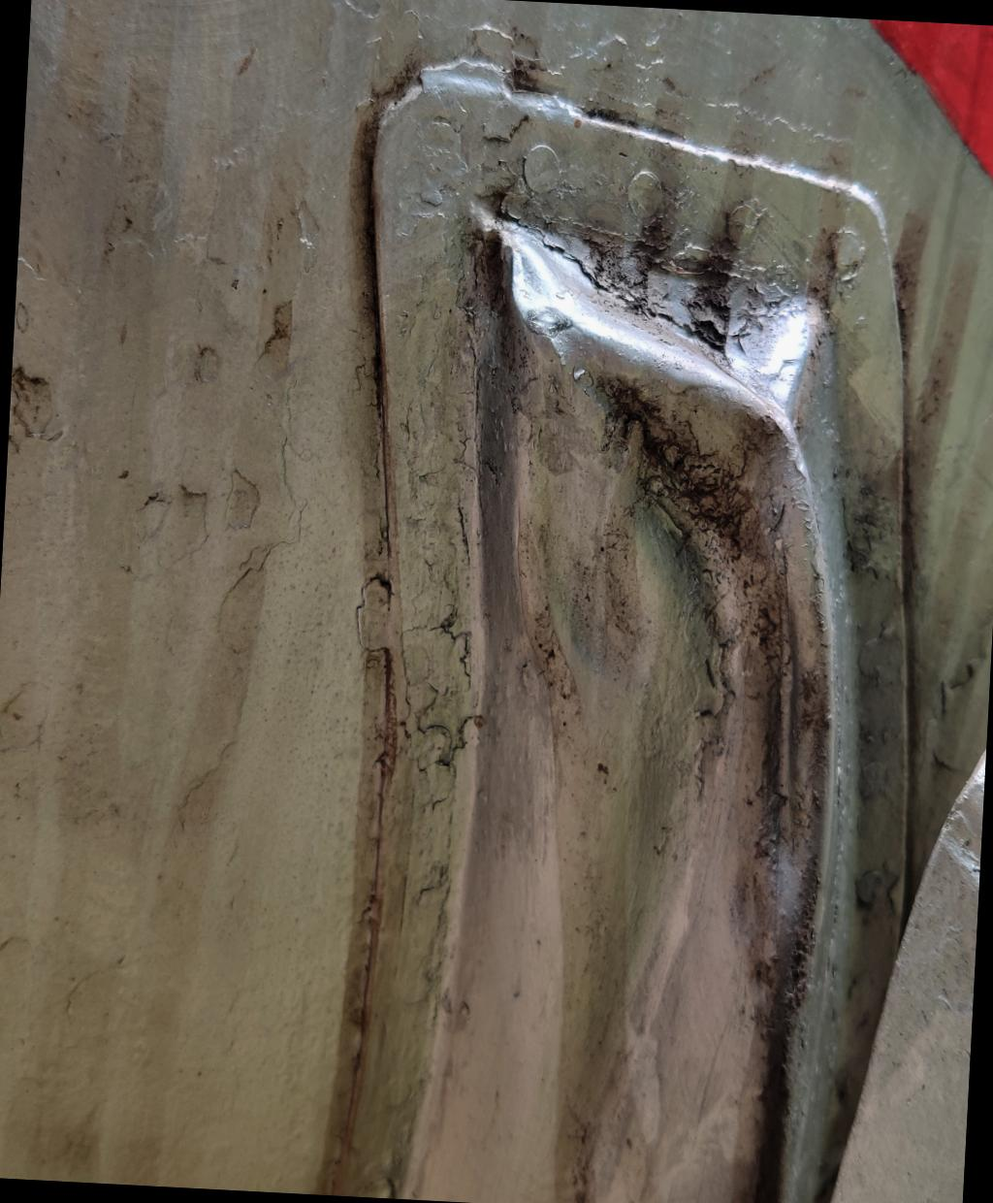dent: (371, 152, 924, 1203)
